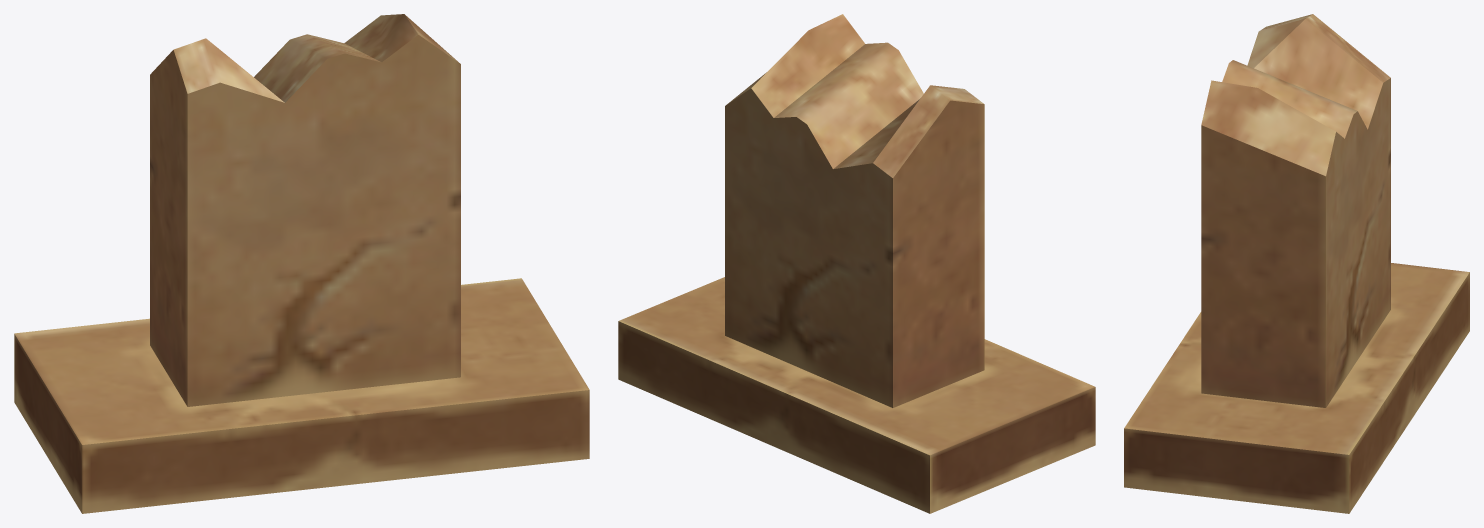
Rendered from Area_08_32.fbx.
3 views of the same model, side by side, from view 1: azimuth 30°, elevation 25°; view 2: azimuth 150°, elevation 25°; view 3: azimuth 270°, elevation 25° (orthographic). The views are drawn at different scales.
Parts seen in each view (by area): view 1: Area_08_32; view 2: Area_08_32; view 3: Area_08_32.
Part boxes in pixels (box(x1,y1,x2,y2)): Area_08_32: box(14, 14, 589, 513); Area_08_32: box(618, 14, 1095, 513); Area_08_32: box(1124, 14, 1469, 513).
Bounding box in the file's own units: 334 × 266 × 233.
Materials: 1 (1 with a texture image).
